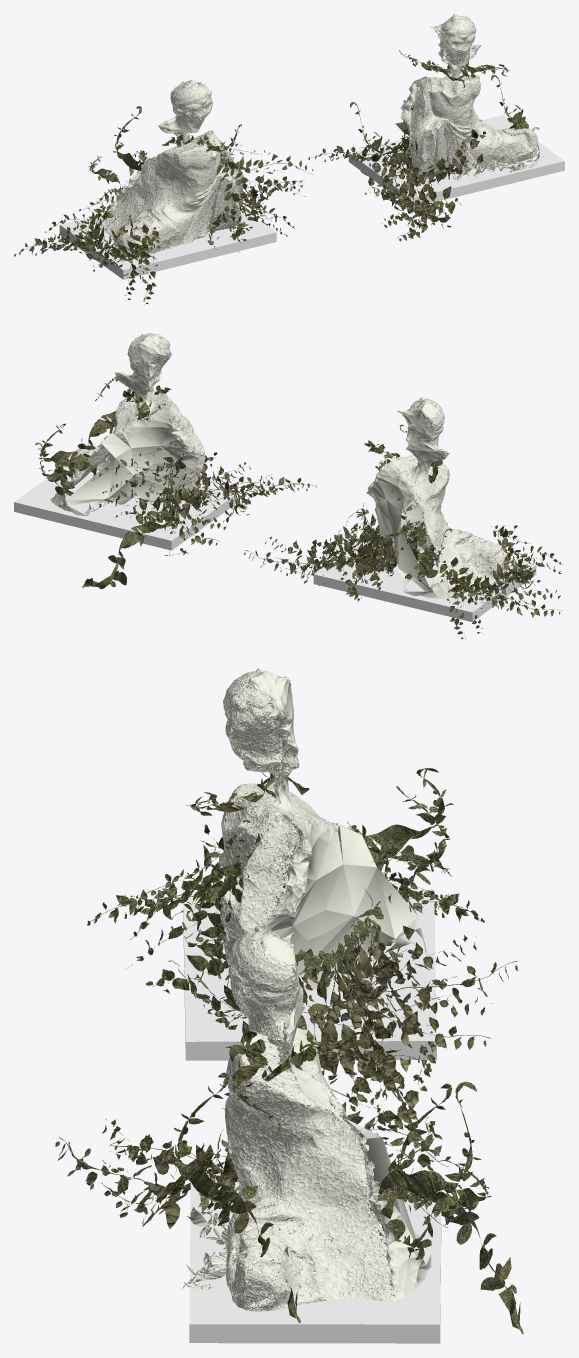
Rendered from project8.glb.
The picture shows the model from 3 angles, top to bottom: view 1: azimuth 30°, elevation 25°; view 2: azimuth 150°, elevation 25°; view 3: azimuth 270°, elevation 25°; orthographic projection. The views are drawn at different scales.
Parts seen in each view (by area): view 1: __növény; view 2: __növény; view 3: __növény.
Boxes of the visible parts, <box> form: __növény: <box>14,14,564,304</box>; __növény: <box>14,333,562,639</box>; __növény: <box>55,668,523,1343</box>.
Size of the model in its own units: 5.65 by 2.21 by 2.24.
Materials: 3 (1 with a texture image).
